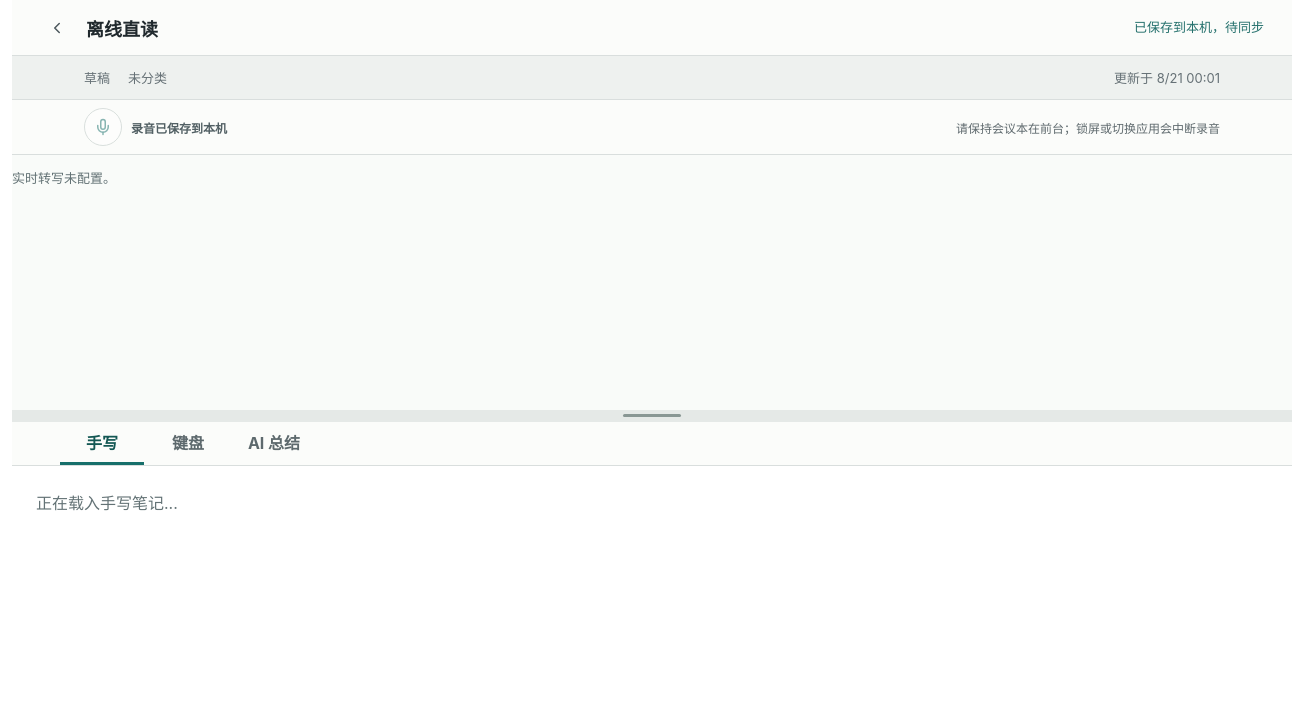
Test: MeetingWorkspacePage › reads local content without refresh while offline
Click the tab "键盘". click: click(188, 443)
box: top-left (146, 422), bottom-right (230, 465)
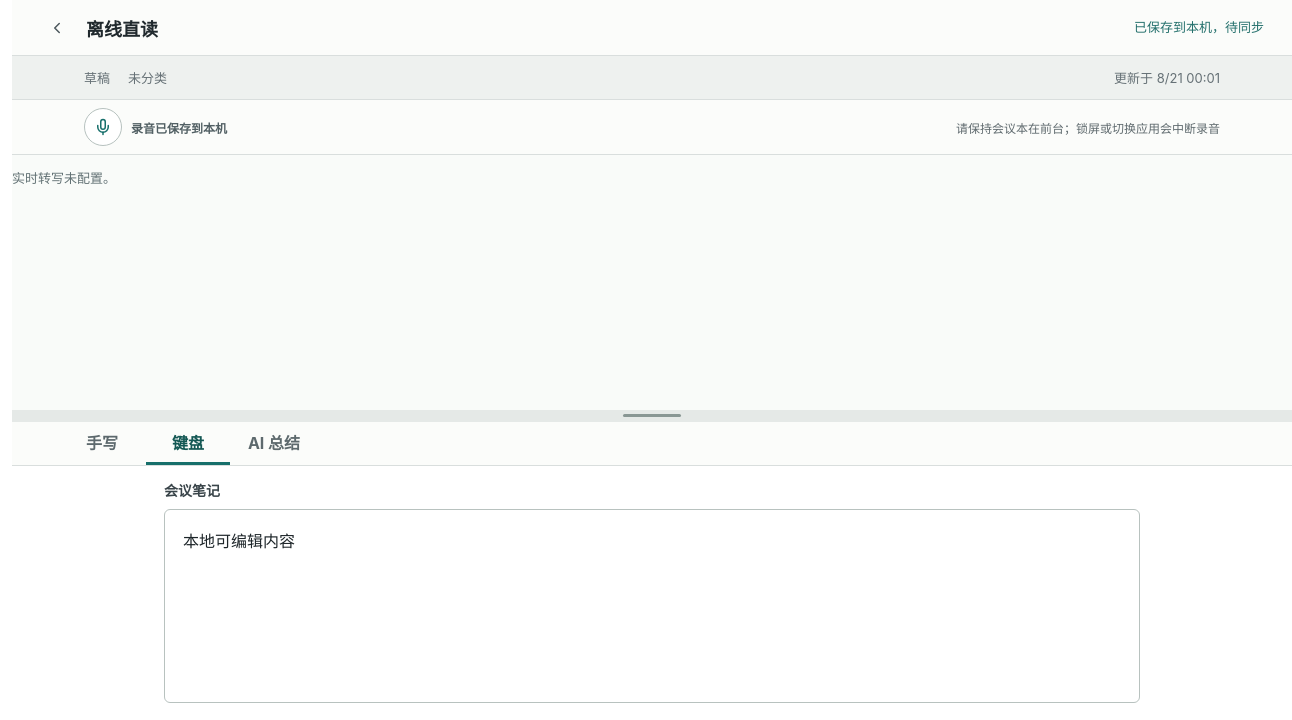
Expected: the text box labelled "会议笔记" holds "本地可编辑内容", top-left (164, 509), bottom-right (1140, 703)
